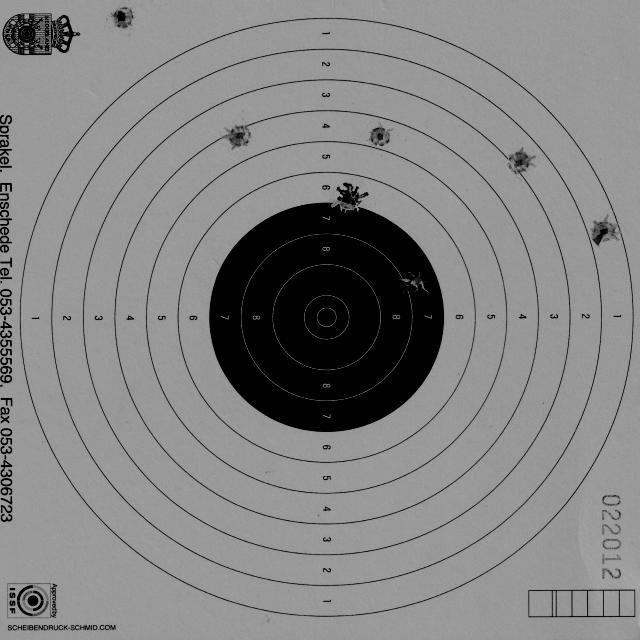0: (109, 5, 137, 30)
1: (590, 214, 623, 248)
3: (503, 144, 537, 180)
4: (222, 118, 253, 151), (367, 121, 394, 147)
7: (330, 182, 369, 215)
8: (396, 266, 431, 298)
Target: (18, 16, 635, 620)
black_contour: (208, 202, 446, 432)
